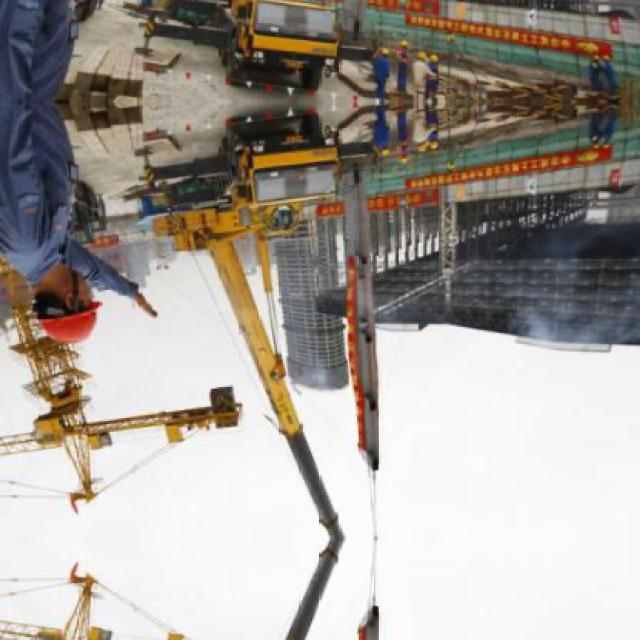con casco: (21, 218, 112, 356)
